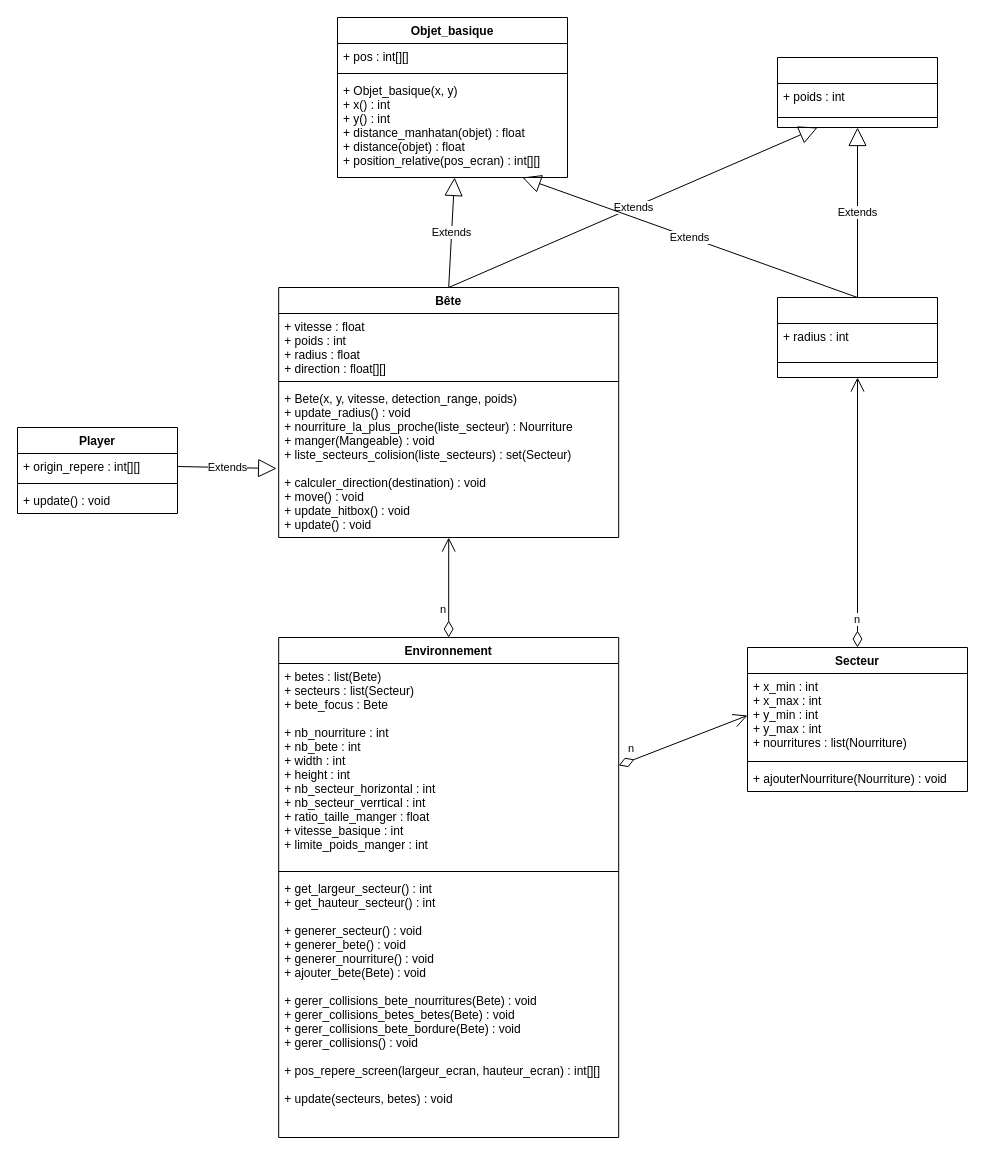
Some shapes in this 985 by 1158 pixel diagram are drawn without their labels. Each missing label, with the box of its shape:
Mangeable: (776, 56, 938, 128)
Nourriture: (776, 296, 938, 378)
